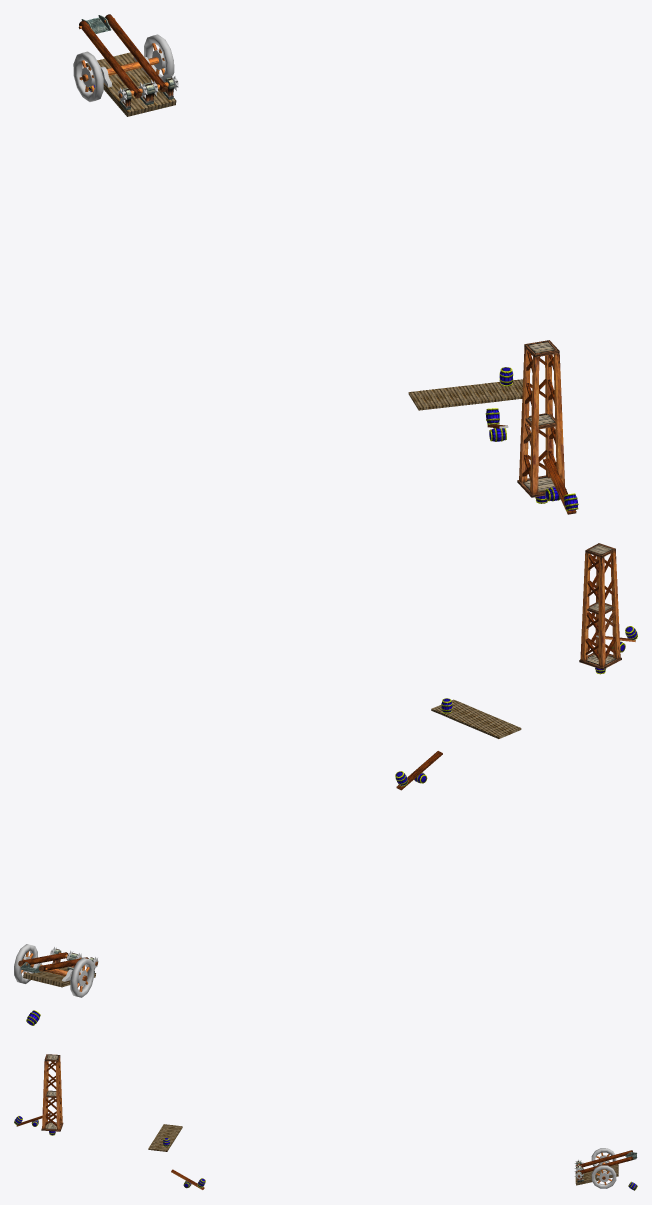
File: CONTRAPTION2.obj
3 views of the same model, one above another, from view 1: azimuth 30°, elevation 25°; view 2: azimuth 150°, elevation 25°; view 3: azimuth 270°, elevation 25° (orthographic). The views are drawn at different scales.
Parts seen in each view (by area): view 1: on2_cata_wheels, con2_catabase, con2_cataarm, con2_tower1, con2_platform, con2_tower2, con2_tower3; view 2: con2_tower1, con2_platform, on2_cata_wheels, con2_tower2, con2_cataarm, con2_catabase; view 3: on2_cata_wheels, con2_tower1, con2_cataarm, con2_platform, con2_catabase, con2_tower3.
Boxes of the visible parts, x1,y1,x2,y2 form: on2_cata_wheels: (73, 34, 174, 101); con2_catabase: (85, 52, 176, 116); con2_cataarm: (78, 14, 178, 103); con2_tower1: (519, 347, 556, 482); con2_platform: (408, 379, 531, 410); con2_tower2: (522, 356, 539, 494); con2_tower3: (548, 353, 564, 486); con2_tower1: (580, 552, 614, 667); con2_platform: (431, 699, 521, 738); on2_cata_wheels: (14, 944, 94, 997); con2_tower2: (604, 551, 620, 659); con2_cataarm: (18, 947, 98, 973); con2_catabase: (23, 949, 95, 987); on2_cata_wheels: (591, 1148, 616, 1188); con2_tower1: (45, 1057, 62, 1130); con2_cataarm: (574, 1150, 637, 1179); con2_platform: (148, 1124, 182, 1151); con2_catabase: (575, 1161, 618, 1185); con2_tower3: (42, 1061, 56, 1129).
Bounding box in the file's own units: 1037 × 1110 × 5838.
